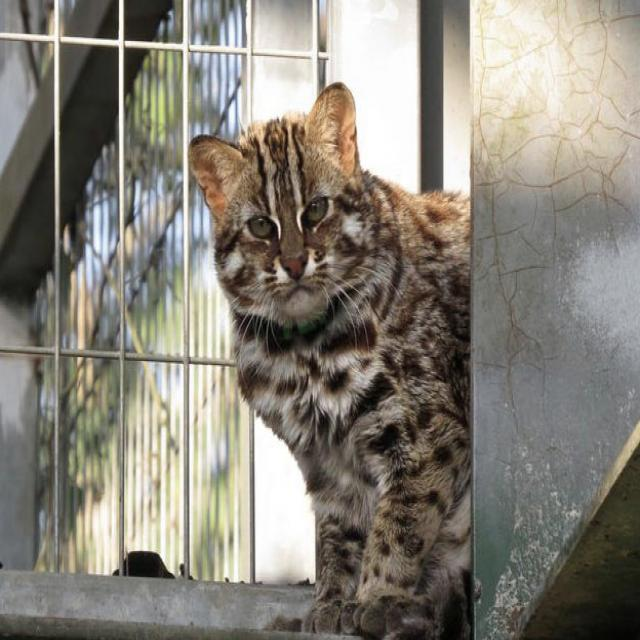leopard-cat: (165, 86, 470, 622)
